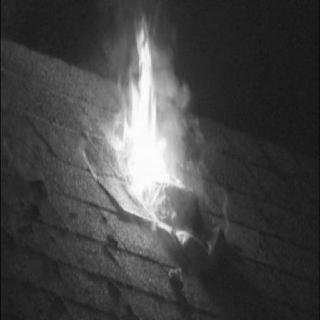Fire: (107, 12, 181, 220)
